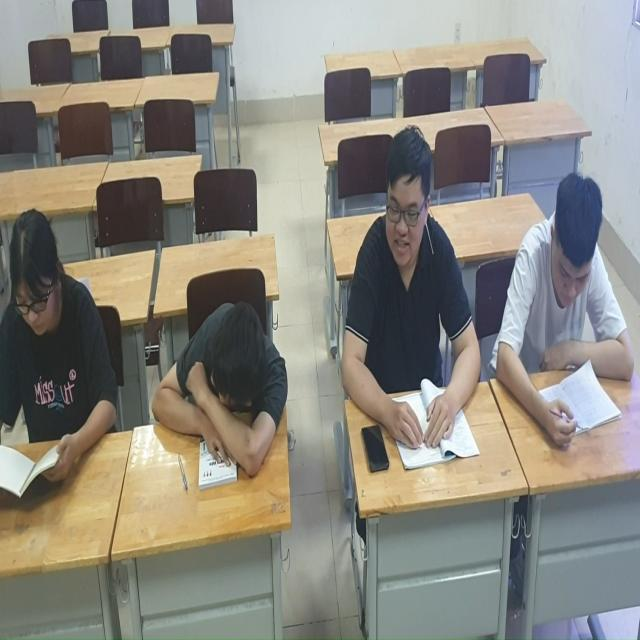sleep: (146, 306, 290, 488)
study: (338, 128, 478, 465), (502, 167, 633, 449), (0, 210, 117, 491)
